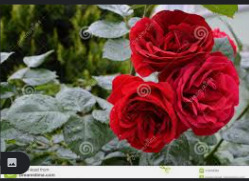RedRose: (104, 67, 182, 159), (124, 10, 224, 78), (177, 60, 239, 141)
